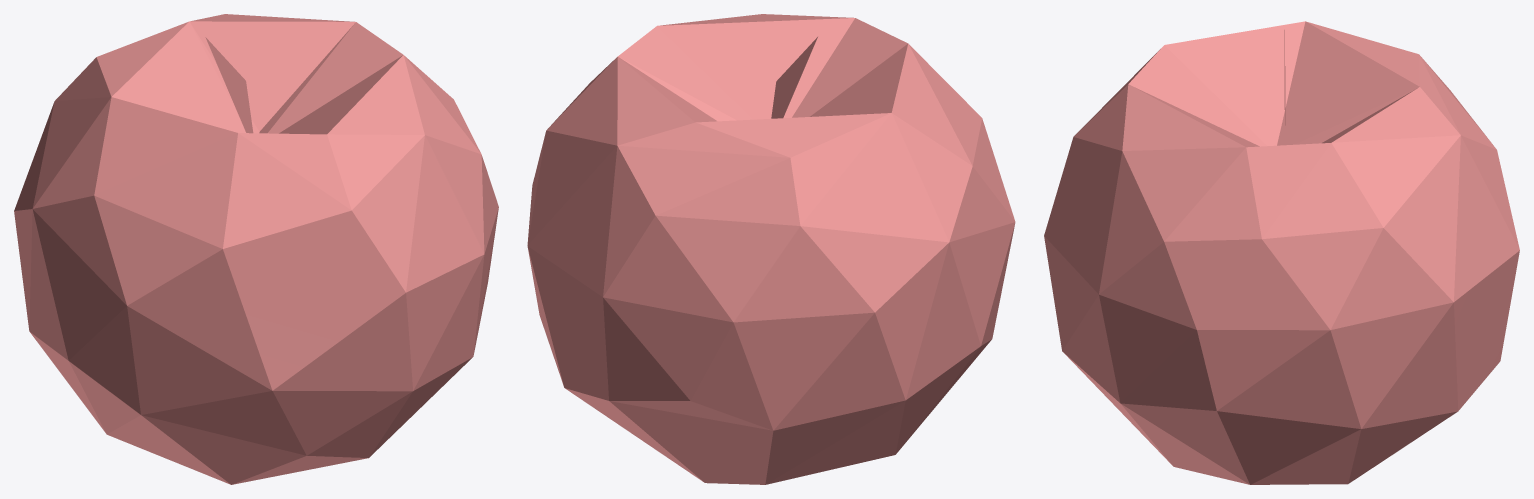
File: apple.fbx
3 views of the same model, side by side, from view 1: azimuth 30°, elevation 25°; view 2: azimuth 150°, elevation 25°; view 3: azimuth 270°, elevation 25° (orthographic). The views are drawn at different scales.
Parts seen in each view (by area): view 1: Manzana; view 2: Manzana; view 3: Manzana.
Boxes of the visible parts, <box> form: Manzana: <box>14,14,498,484</box>; Manzana: <box>527,14,1015,484</box>; Manzana: <box>1044,21,1519,484</box>.
Bounding box in the file's own units: 584 × 555 × 594.
